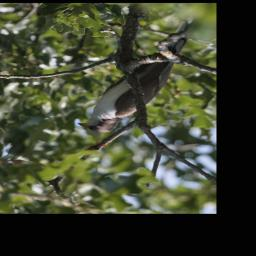Cuckoo: (76, 19, 202, 134)
